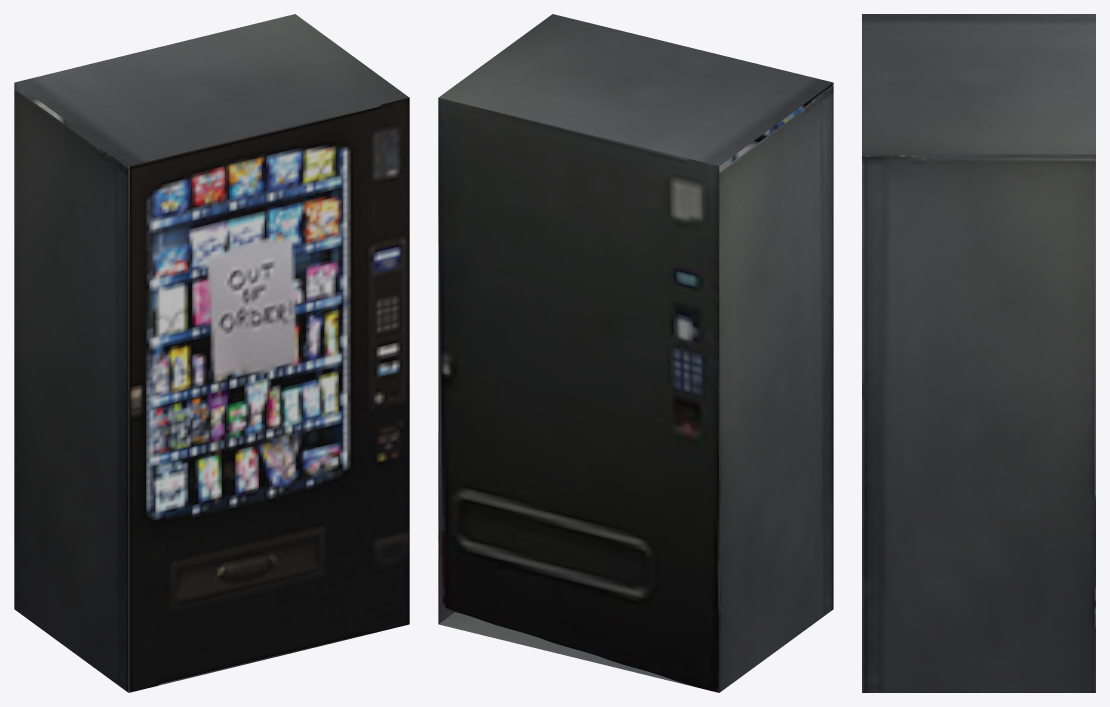
The model's file is broken_vending_machine.FBX.
3 renders of one model, left to right at view 1: azimuth 30°, elevation 25°; view 2: azimuth 150°, elevation 25°; view 3: azimuth 270°, elevation 25°, orthographic. The views are drawn at different scales.
Parts seen in each view (by area): view 1: broke_vending_machine; view 2: broke_vending_machine; view 3: broke_vending_machine.
Part boxes in pixels (x1,y1,x2,y2): broke_vending_machine: (14,14,409,692); broke_vending_machine: (438,14,833,692); broke_vending_machine: (862,14,1095,692).
Bounding box in the file's own units: 76.45 × 137 × 53.87.
